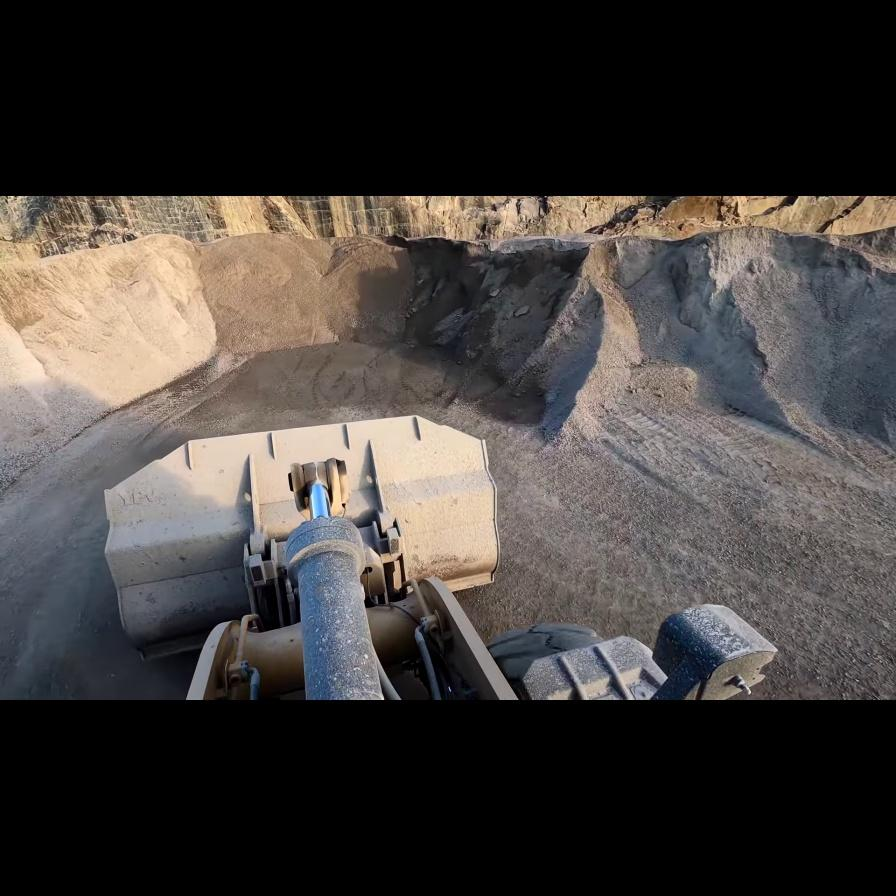anchor: (289, 458, 347, 521)
pile of gravel: (402, 224, 886, 461), (3, 229, 413, 503)
